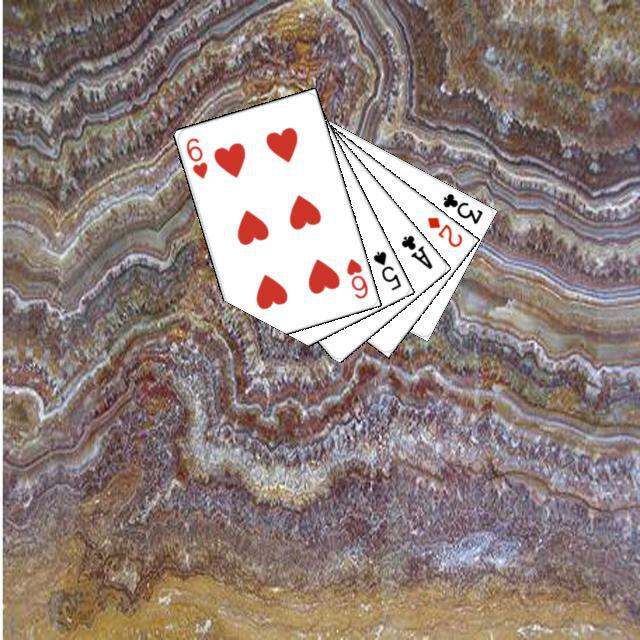2d: (422, 212, 464, 249)
3c: (438, 188, 485, 226)
5s: (368, 246, 403, 292)
6h: (342, 253, 370, 300), (181, 133, 209, 180)
Ac: (396, 230, 434, 271)
